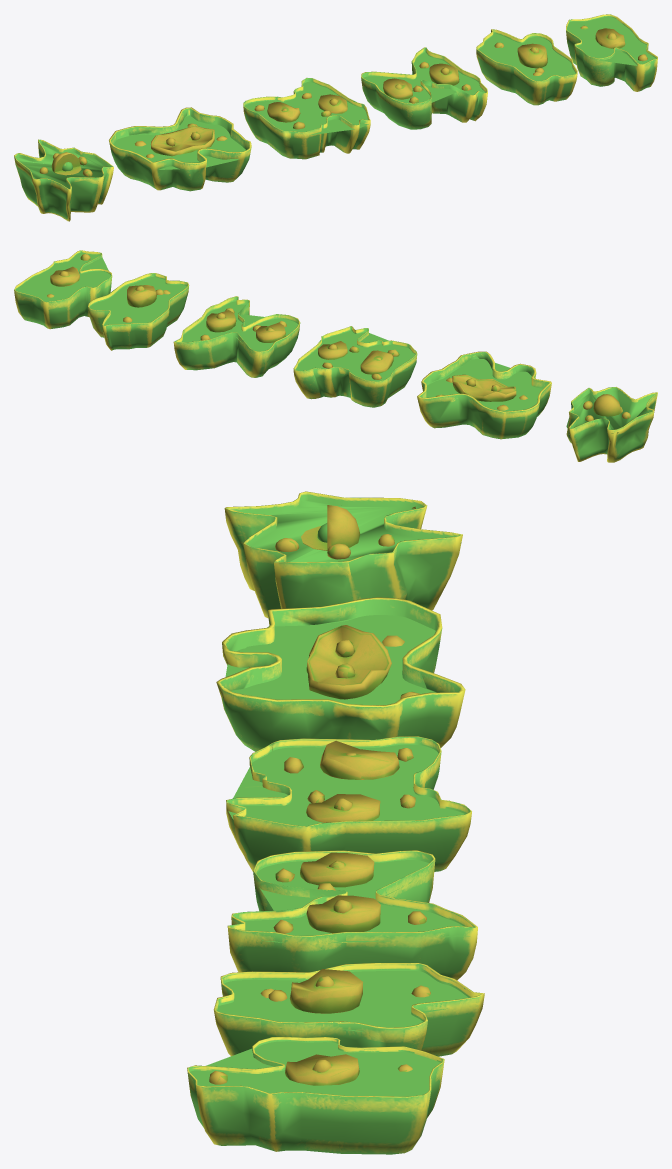
Rendered from Nuclear Fission in Amoeba .fbx.
3 renders of one model, top to bottom at view 1: azimuth 30°, elevation 25°; view 2: azimuth 150°, elevation 25°; view 3: azimuth 270°, elevation 25°, orthographic. The views are drawn at different scales.
Parts seen in each view (by area): view 1: Sphere.003, Sphere.004, Sphere.005, Sphere.007, Sphere.002, Sphere.006, Sphere.009, Sphere.014, Sphere.010, Sphere.012, Sphere.013, Sphere.008 (+2 smaller); view 2: Sphere.003, Sphere.004, Sphere.005, Sphere.007, Sphere.006, Sphere.002, Sphere.009, Sphere.010, Sphere.014, Sphere.008, Sphere.013, Sphere.012 (+2 smaller); view 3: Sphere.003, Sphere.006, Sphere.004, Sphere.005, Sphere.002, Sphere.007, Sphere.009, Sphere.014, Sphere.010, Sphere.013, Sphere.012, Sphere.015 (+2 smaller).
Boxes of the visible parts, x1,y1,x2,y2 form: Sphere.003: (109, 107, 251, 191); Sphere.004: (243, 78, 370, 159); Sphere.005: (361, 47, 487, 129); Sphere.007: (476, 29, 577, 105); Sphere.002: (14, 139, 113, 221); Sphere.006: (566, 14, 657, 91); Sphere.009: (150, 125, 214, 156); Sphere.014: (517, 43, 547, 68); Sphere.010: (267, 102, 300, 122); Sphere.012: (383, 78, 412, 99); Sphere.013: (429, 63, 459, 85); Sphere.008: (51, 152, 81, 175); Sphere.003: (417, 351, 551, 439); Sphere.004: (293, 326, 417, 407); Sphere.005: (173, 296, 300, 377); Sphere.007: (88, 273, 189, 350); Sphere.006: (14, 250, 112, 329); Sphere.002: (566, 387, 657, 462); Sphere.009: (452, 374, 516, 401); Sphere.010: (360, 350, 393, 374); Sphere.014: (127, 285, 156, 307); Sphere.008: (593, 394, 622, 416); Sphere.013: (206, 310, 236, 332); Sphere.012: (256, 322, 285, 342); Sphere.003: (216, 597, 465, 751); Sphere.006: (187, 1037, 444, 1154); Sphere.004: (226, 736, 471, 871); Sphere.005: (227, 850, 477, 980); Sphere.002: (224, 491, 462, 618); Sphere.007: (213, 963, 484, 1056); Sphere.009: (306, 625, 391, 699); Sphere.014: (290, 969, 363, 1013); Sphere.010: (320, 740, 399, 779); Sphere.013: (306, 895, 380, 933); Sphere.012: (300, 852, 374, 887); Sphere.015: (285, 1054, 359, 1085).
Bounding box in the file's own units: 492 × 37.91 × 104.
